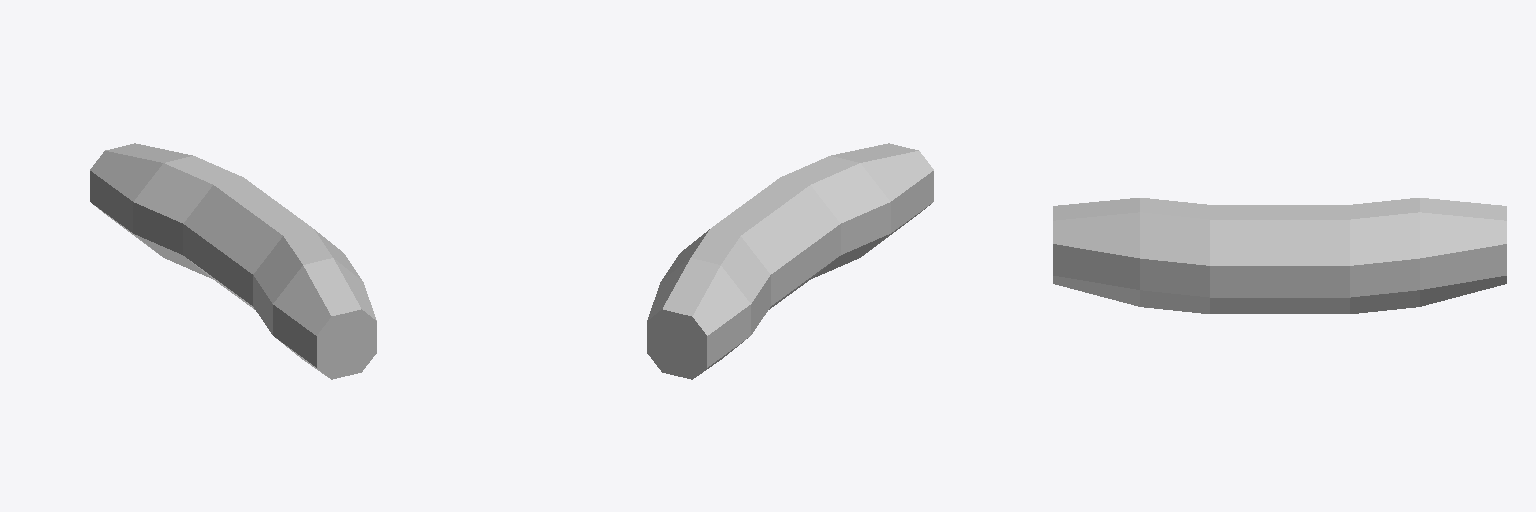
File: saucy.obj
The picture shows the model from 3 angles: view 1: azimuth 30°, elevation 25°; view 2: azimuth 150°, elevation 25°; view 3: azimuth 270°, elevation 25°; orthographic projection.
Parts seen in each view (by area): view 1: saucy; view 2: saucy; view 3: saucy.
Boxes of the visible parts, x1,y1,x2,y2 form: saucy: [90, 143, 376, 379]; saucy: [647, 143, 933, 379]; saucy: [1053, 198, 1506, 313].
Bounding box in the file's own units: 1.75 × 1.5 × 6.5.